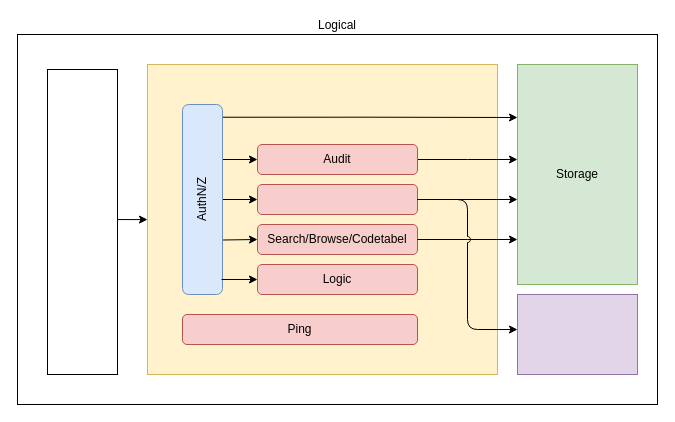
Some shapes in this 675 by 422 pixel diagram are drawn without their labels. Here are the shapes that lost their labels. From the top down, the box of each, then its label:
(146, 64, 498, 374): API GATEWAY
(256, 184, 418, 214): Data
(46, 68, 118, 374): Frontend
(516, 294, 638, 374): Event
